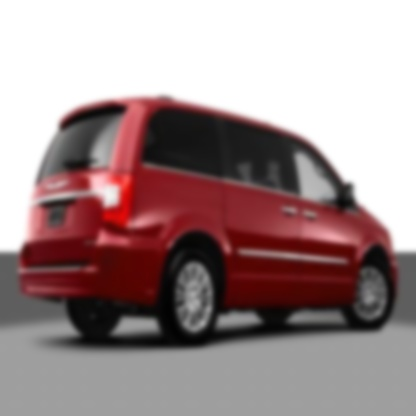Vehicle: (19, 95, 399, 349)
